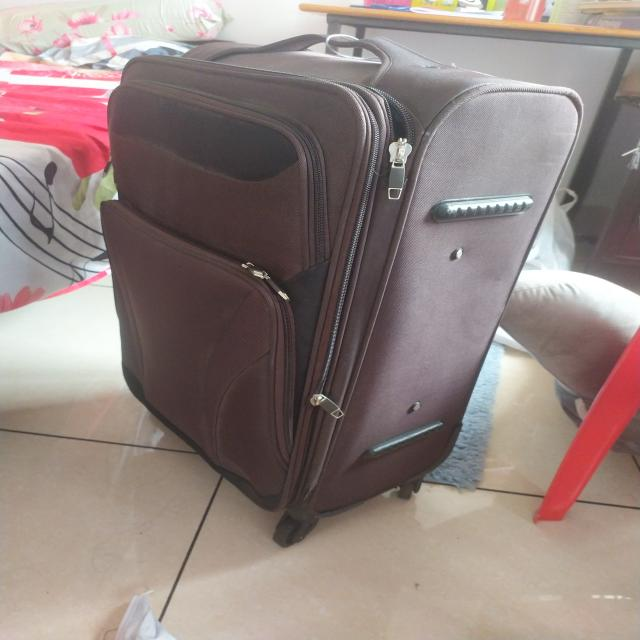suitcaserotation: (92, 27, 588, 554)
